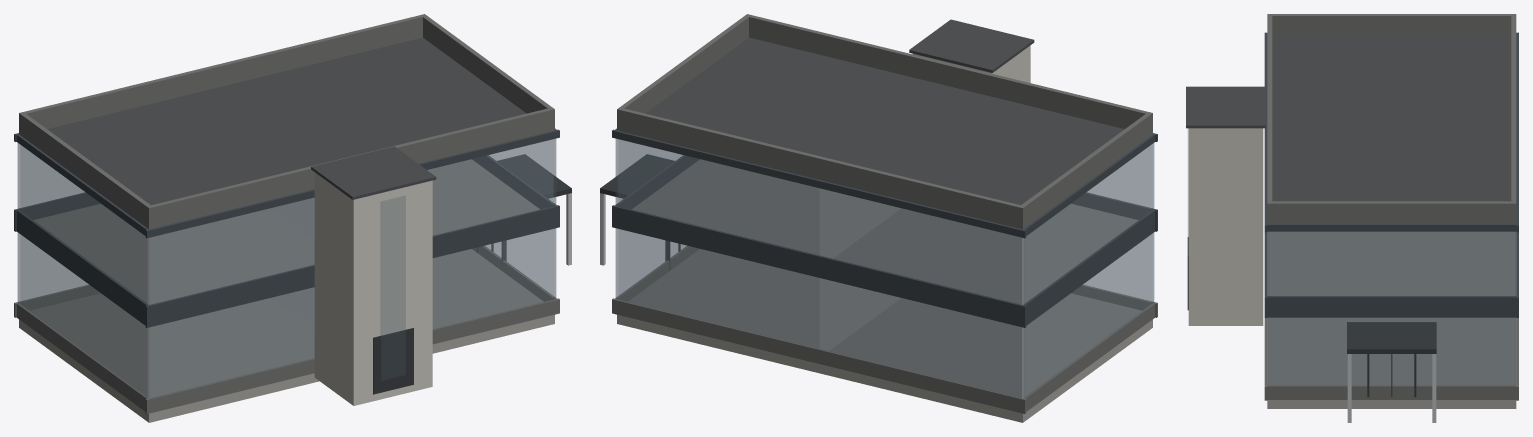
File: annex_LOD1.glb
The picture shows the model from 3 angles, left to right: view 1: azimuth 30°, elevation 25°; view 2: azimuth 150°, elevation 25°; view 3: azimuth 270°, elevation 25°; orthographic projection. The views are drawn at different scales.
Parts seen in each view (by area): view 1: Roof_LOD1, Facade_North_LOD1, Core_LOD1, Slab_F1_LOD1, Facade_East_LOD1, Slab_F2_LOD1, Zone_F1-LabA_LOD1, Zone_F2-LabA_LOD1, Zone_F1-LabB_LOD1, Zone_F2-LabB_LOD1, Facade_West_LOD1, Facade_South_LOD1 (+1 smaller); view 2: Facade_South_LOD1, Roof_LOD1, Slab_F1_LOD1, Slab_F2_LOD1, Facade_East_LOD1, Zone_F1-LabA_LOD1, Zone_F2-LabA_LOD1, Zone_F1-LabB_LOD1, Zone_F2-LabB_LOD1, Facade_West_LOD1, Facade_North_LOD1, Core_LOD1 (+1 smaller); view 3: Roof_LOD1, Facade_West_LOD1, Core_LOD1, Slab_F1_LOD1, Slab_F2_LOD1, Zone_F2-LabB_LOD1, Zone_F1-LabB_LOD1, Entrance_LOD1, Facade_North_LOD1, Facade_South_LOD1.
Part boxes in pixels (x1,y1,x2,y2): Roof_LOD1: (19, 14, 554, 229); Facade_North_LOD1: (145, 129, 559, 413); Core_LOD1: (311, 146, 436, 405); Slab_F1_LOD1: (19, 249, 554, 422); Facade_East_LOD1: (16, 134, 148, 411); Slab_F2_LOD1: (33, 159, 539, 304); Zone_F1-LabA_LOD1: (21, 236, 313, 397); Zone_F2-LabA_LOD1: (21, 146, 313, 304); Zone_F1-LabB_LOD1: (433, 230, 552, 327); Zone_F2-LabB_LOD1: (428, 140, 552, 234); Facade_West_LOD1: (472, 128, 556, 301); Facade_South_LOD1: (14, 133, 100, 317); Facade_South_LOD1: (612, 129, 1026, 413); Roof_LOD1: (617, 14, 1152, 229); Slab_F1_LOD1: (617, 249, 1152, 422); Slab_F2_LOD1: (632, 159, 1138, 304); Facade_East_LOD1: (1023, 134, 1155, 411); Zone_F1-LabA_LOD1: (822, 236, 1150, 397); Zone_F2-LabA_LOD1: (822, 146, 1150, 304); Zone_F1-LabB_LOD1: (619, 230, 820, 347); Zone_F2-LabB_LOD1: (619, 140, 820, 254); Facade_West_LOD1: (615, 128, 699, 301); Facade_North_LOD1: (1071, 133, 1157, 317); Core_LOD1: (909, 19, 1034, 82); Roof_LOD1: (1267, 14, 1516, 223); Facade_West_LOD1: (1267, 224, 1516, 399); Core_LOD1: (1186, 86, 1265, 325); Slab_F1_LOD1: (1267, 317, 1516, 408); Slab_F2_LOD1: (1267, 231, 1516, 295); Zone_F2-LabB_LOD1: (1269, 232, 1514, 295); Zone_F1-LabB_LOD1: (1269, 318, 1514, 384); Entrance_LOD1: (1347, 322, 1436, 422); Facade_North_LOD1: (1264, 32, 1267, 400); Facade_South_LOD1: (1516, 32, 1518, 400).
Bounding box in the file's own units: 20.77 × 9.22 × 13.36.
